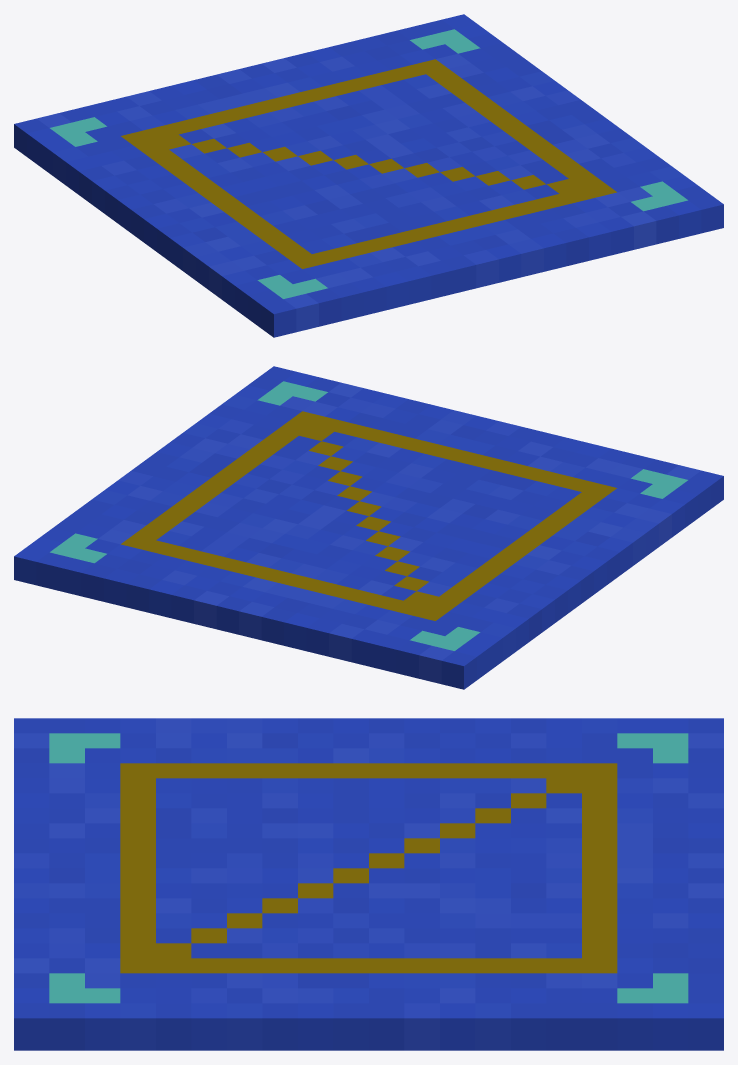
The model's file is floor_chest.fbx.
The picture shows the model from 3 angles, top to bottom: view 1: azimuth 30°, elevation 25°; view 2: azimuth 150°, elevation 25°; view 3: azimuth 270°, elevation 25°; orthographic projection. The views are drawn at different scales.
Parts seen in each view (by area): view 1: Matrix; view 2: Matrix; view 3: Matrix.
Part boxes in pixels (x1=…): Matrix: x1=14, y1=14, x2=723, y2=337; Matrix: x1=14, y1=366, x2=723, y2=689; Matrix: x1=14, y1=718, x2=723, y2=1050.
Bounding box in the file's own units: 20 × 1 × 20.
1 material, 1 textured.
